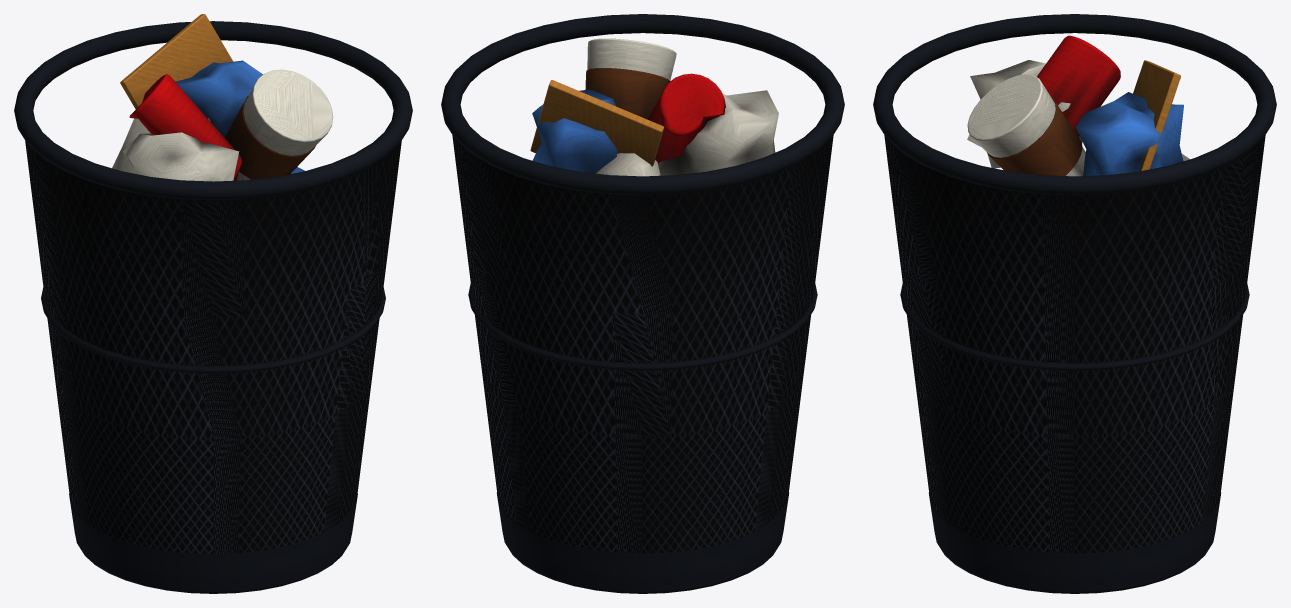
File: prop_trash_bin.glb
The picture shows the model from 3 angles, left to right: view 1: azimuth 30°, elevation 25°; view 2: azimuth 150°, elevation 25°; view 3: azimuth 270°, elevation 25°; orthographic projection.
Parts seen in each view (by area): view 1: prop_trash_bin; view 2: prop_trash_bin; view 3: prop_trash_bin.
Boxes of the visible parts, x1,y1,x2,y2 form: prop_trash_bin: (14, 14, 412, 593); prop_trash_bin: (441, 14, 844, 593); prop_trash_bin: (873, 14, 1276, 593).
Bounding box in the file's own units: 0.393 × 0.5191 × 0.393.
Materials: 8 (8 with a texture image).
